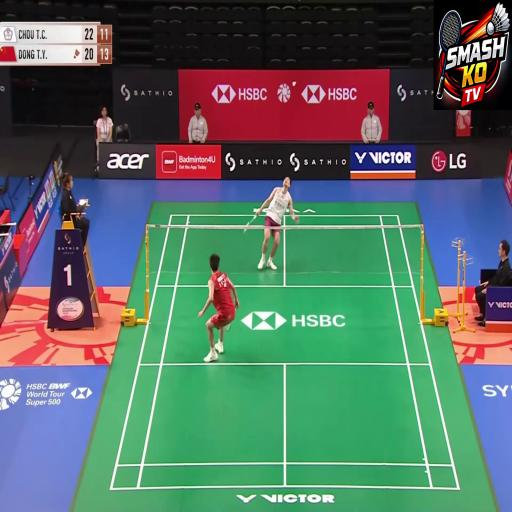player: (196, 235, 260, 410), (246, 152, 299, 287)
